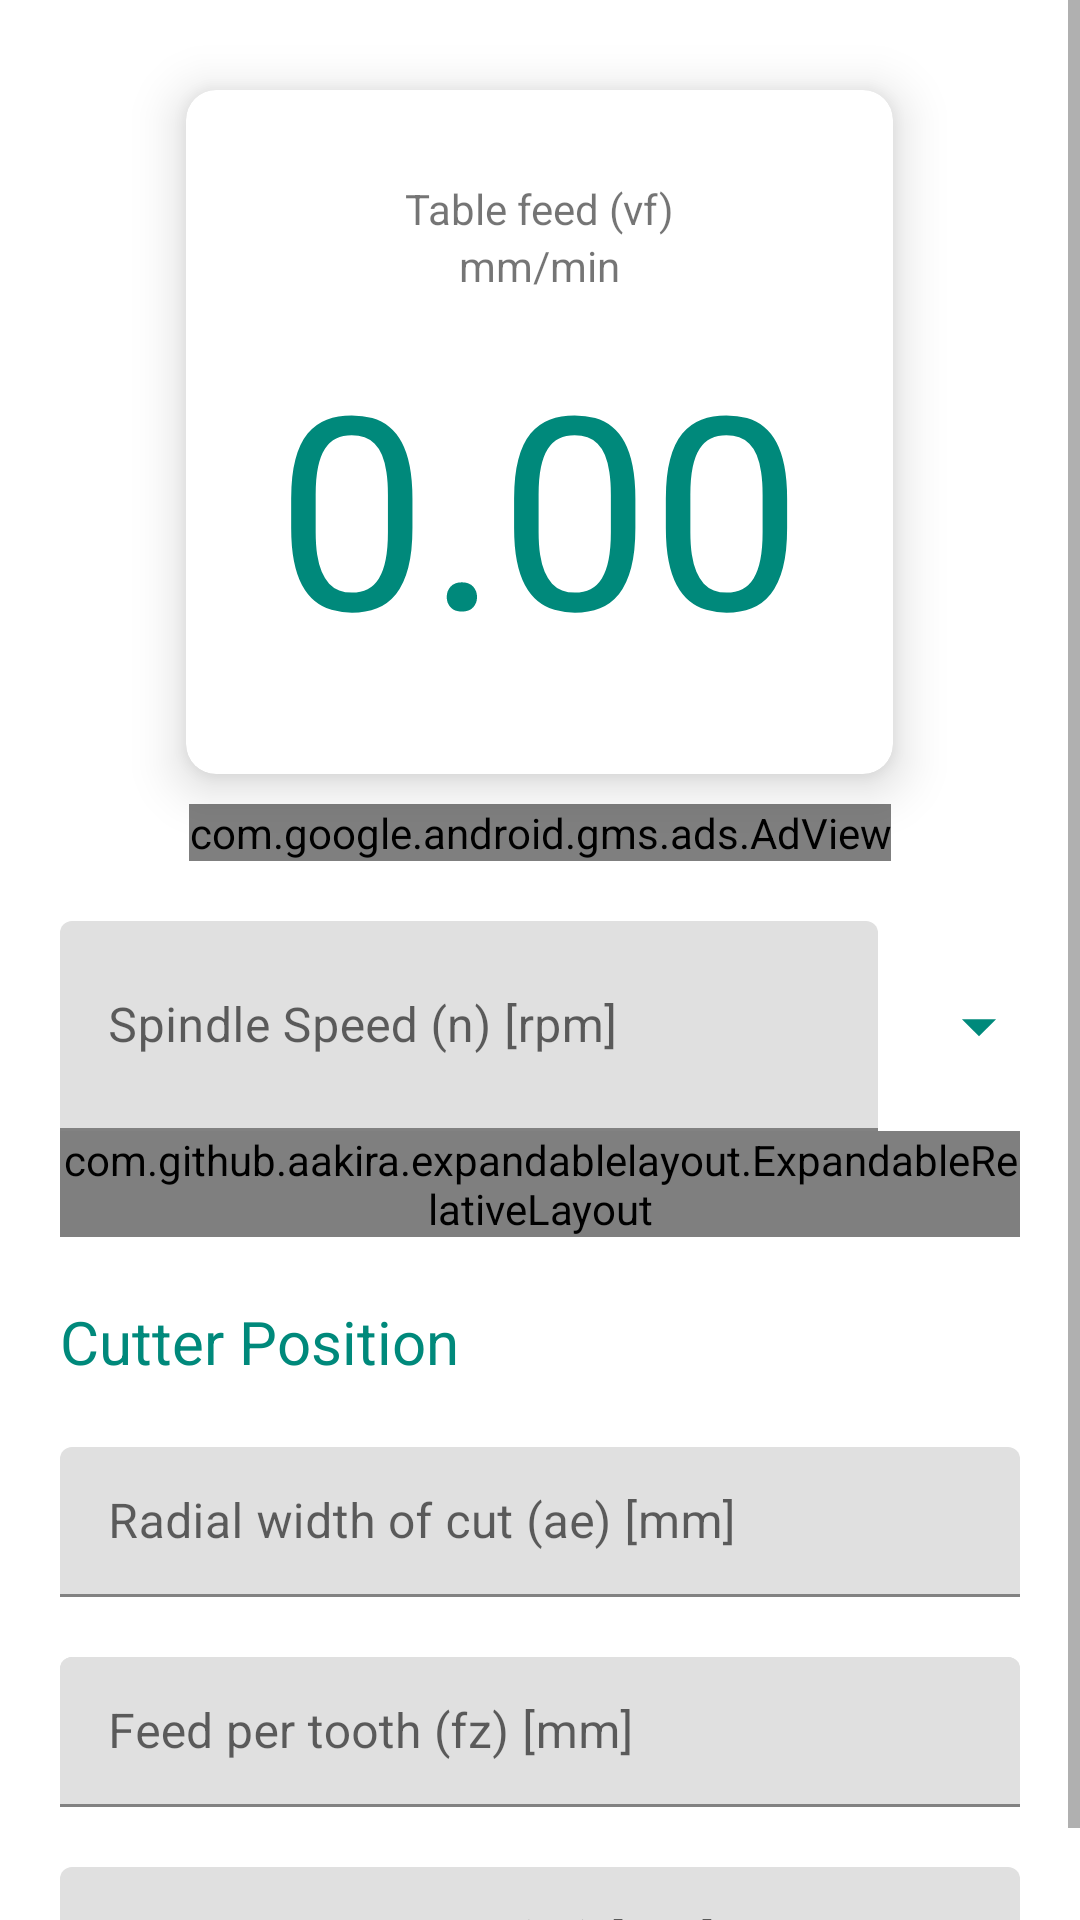

Named icons in this screenshot (1080 × 1920) and their bounding boxes, (left=x1, top=y1, right=x2, bottom=y2):
arrow drop down: (left=962, top=1019, right=996, bottom=1036)
